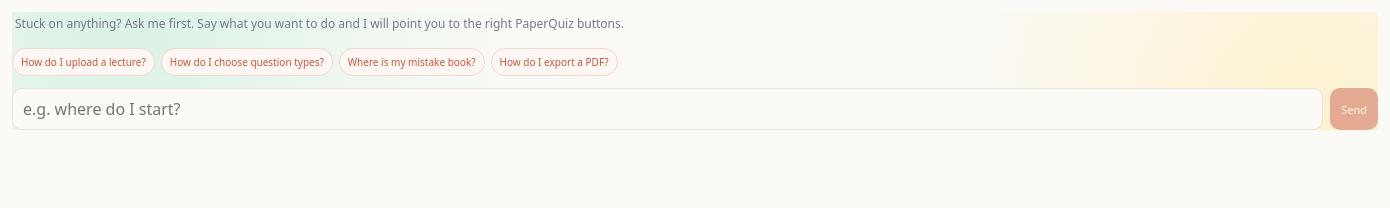
sends only product-help fields to the dedicated API and renders guidance
In the field named "Ask how to use PaperQuiz": (668, 109) [12,88,1323,130], type "Where are my mistakes?"
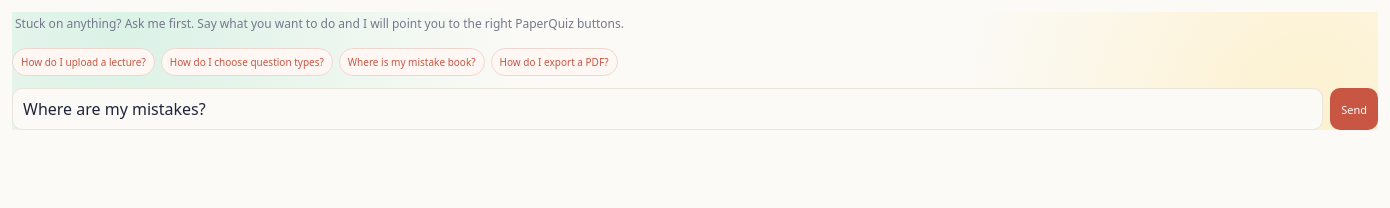
Click the button with aria-label "Send help question": (1354, 109) [1330,88,1378,130]
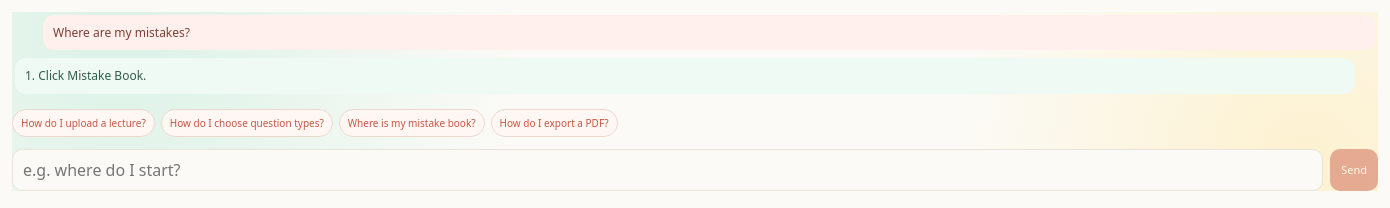
Expected: the text "1. Click Mistake Book." is shown, [15,58,1355,94]
